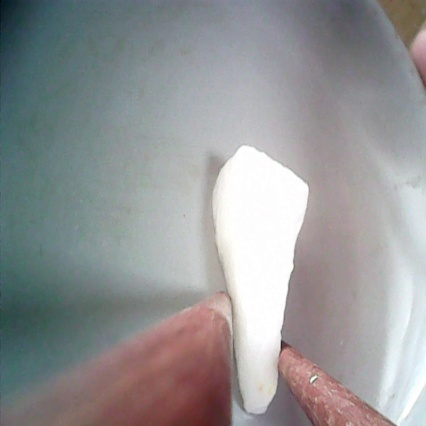white_chinese-yam: (208, 139, 310, 423)
